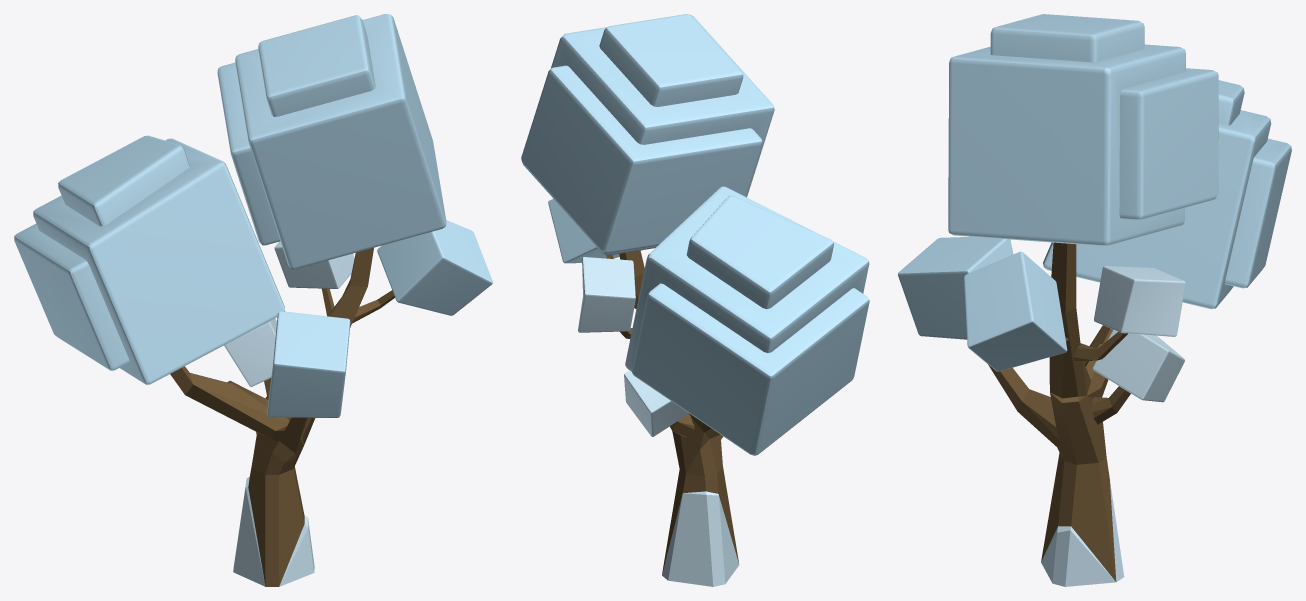
File: model_polytope_snow_tree.fbx
3 views of the same model, side by side, from view 1: azimuth 30°, elevation 25°; view 2: azimuth 150°, elevation 25°; view 3: azimuth 270°, elevation 25° (orthographic). The views are drawn at different scales.
Visible parts, largest first — view 1: model_polytope_snow_tree; view 2: model_polytope_snow_tree; view 3: model_polytope_snow_tree.
Boxes of the visible parts, x1,y1,x2,y2 form: model_polytope_snow_tree: [14, 14, 492, 586]; model_polytope_snow_tree: [521, 14, 869, 586]; model_polytope_snow_tree: [898, 14, 1291, 586].
Size of the model in its own units: 403 by 561 by 344.
1 material, 1 textured.
